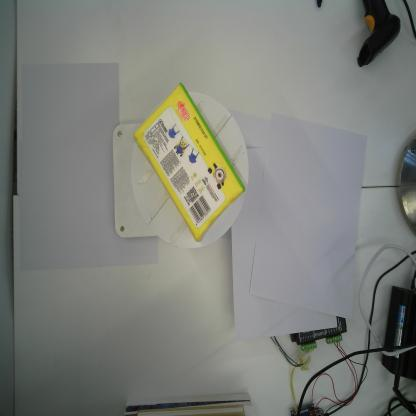Tissue: (133, 80, 246, 246)
